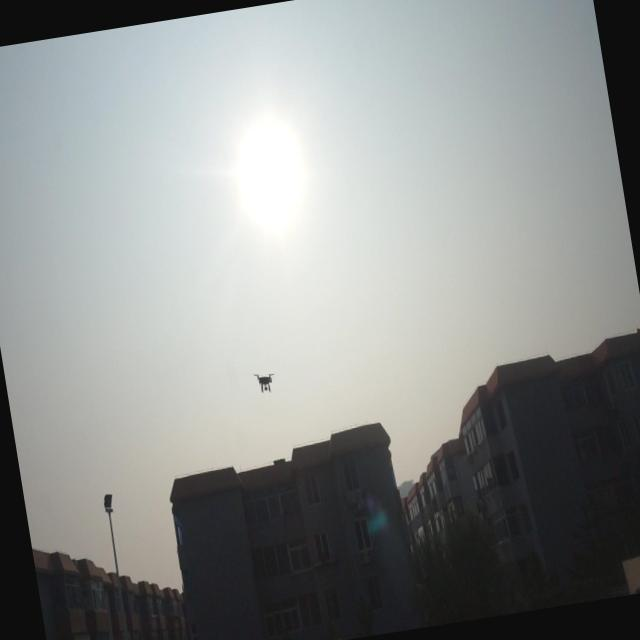drone: (248, 366, 280, 398)
